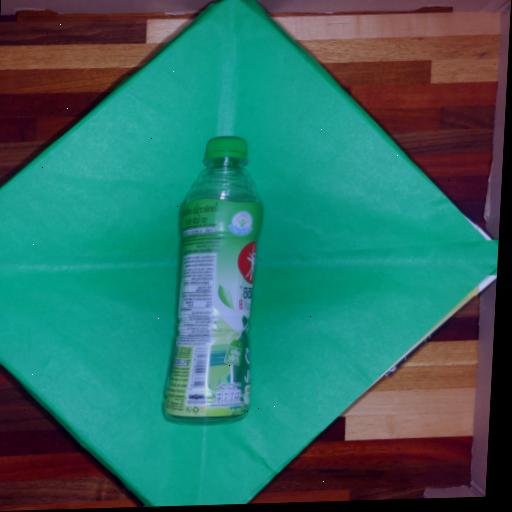bottle: (162, 120, 276, 439)
